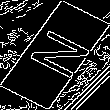N_SE: (17, 25, 93, 85)
